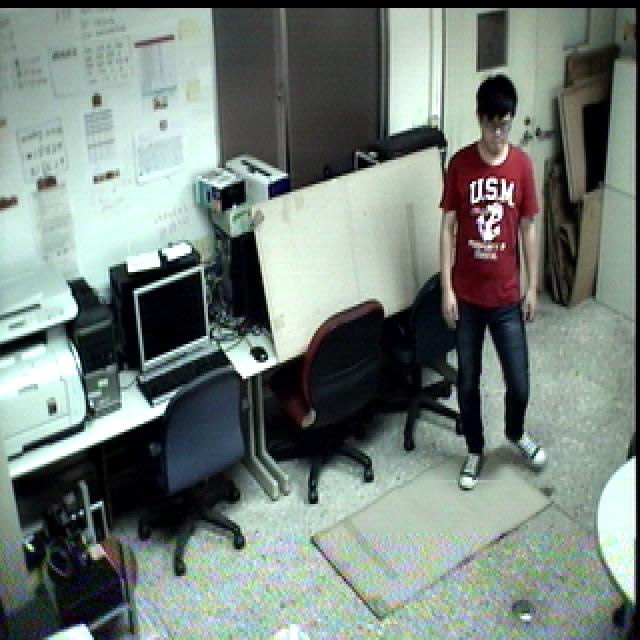stand: (436, 67, 554, 490)
